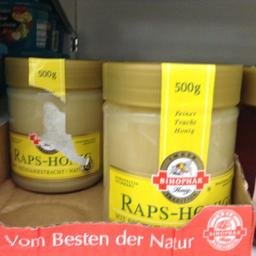honey: (102, 58, 244, 231), (1, 56, 102, 191)
